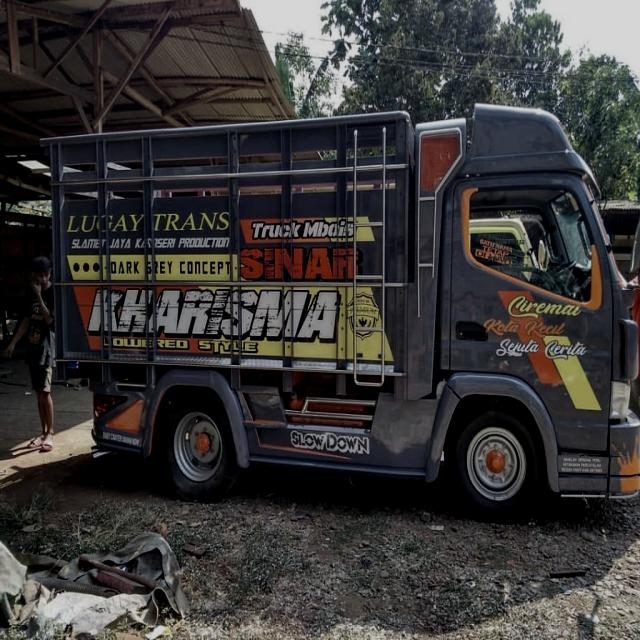truck: (36, 101, 640, 516)
